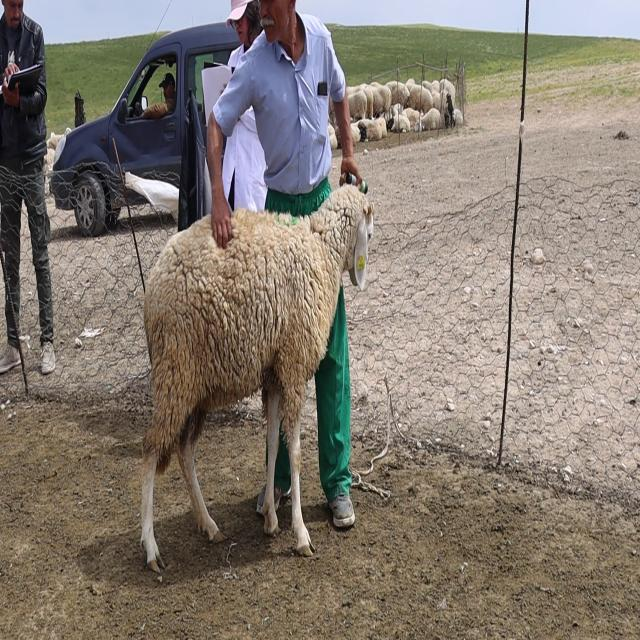Score_2: (141, 185, 374, 571)
